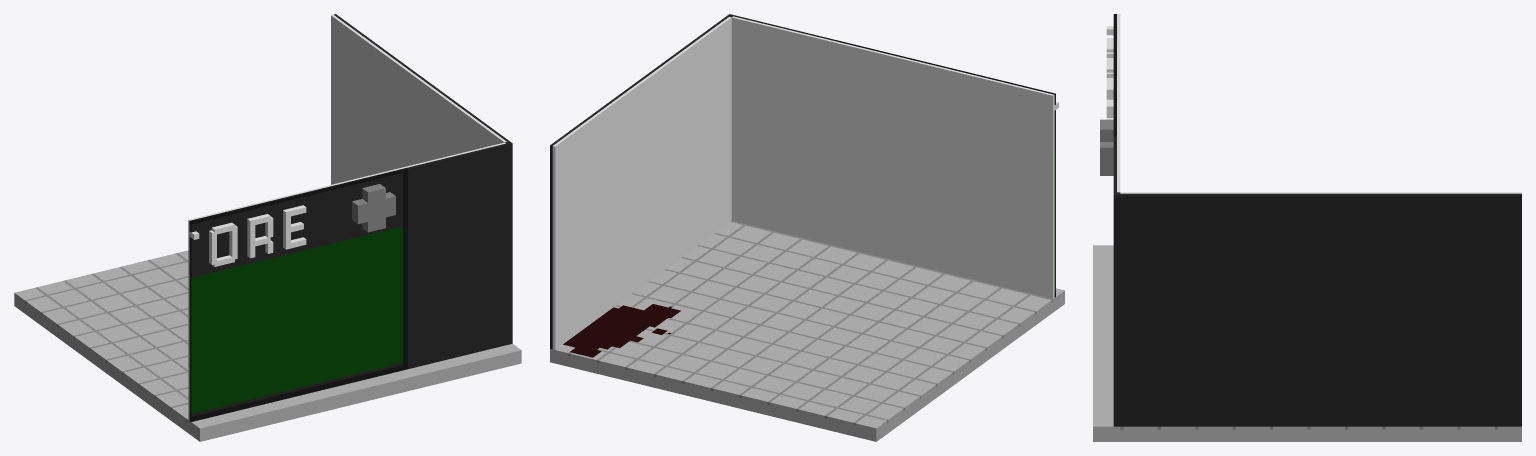
The model's file is 2x2 first (2)-3.obj.
3 renders of one model, left to right at view 1: azimuth 30°, elevation 25°; view 2: azimuth 150°, elevation 25°; view 3: azimuth 270°, elevation 25°, orthographic. The views are drawn at different scales.
Parts seen in each view (by area): view 1: 2x2 first (2)-3; view 2: 2x2 first (2)-3; view 3: 2x2 first (2)-3.
Part boxes in pixels (x1,y1,x2,y2): 2x2 first (2)-3: (14,14,521,441); 2x2 first (2)-3: (550,14,1064,441); 2x2 first (2)-3: (1093,14,1521,441).
Size of the model in its own units: 126 by 80 by 126.
1 material, 1 textured.
